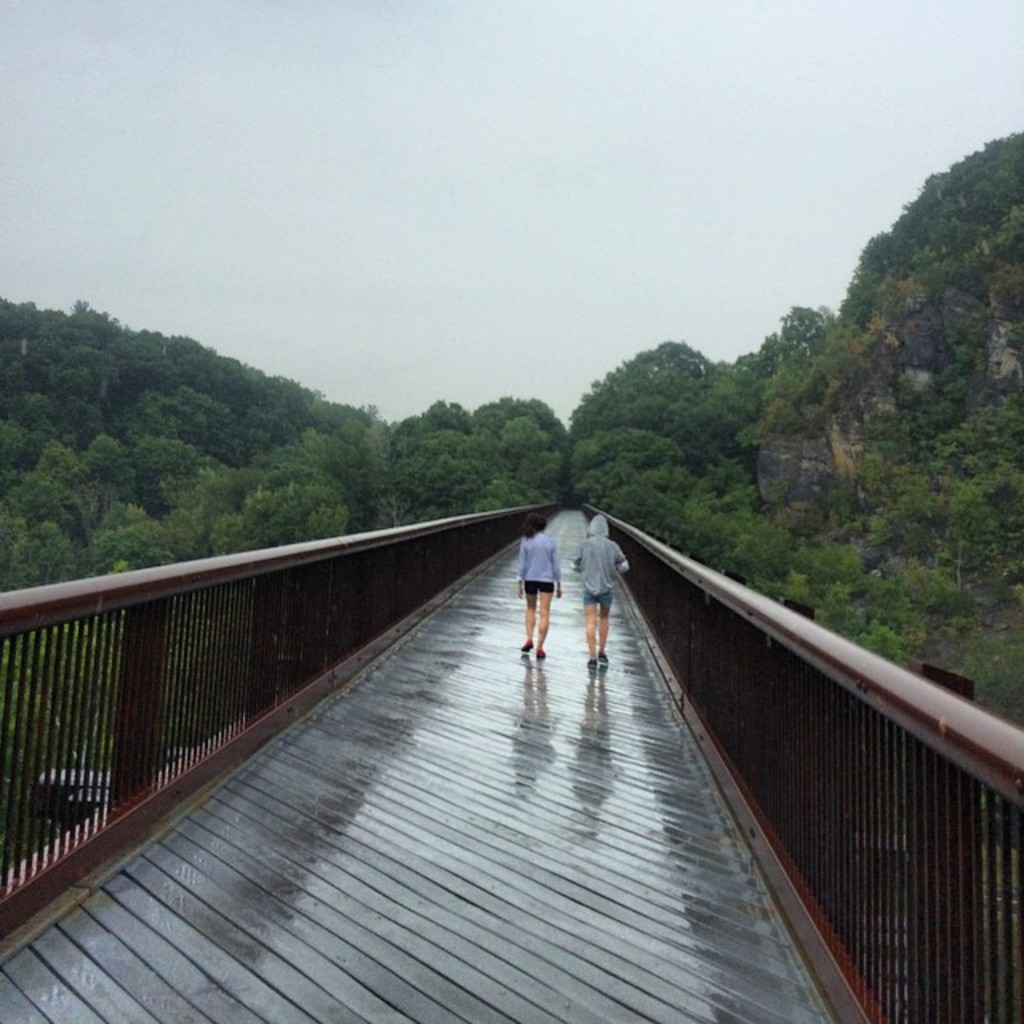Person: (570, 513, 628, 668), (516, 510, 564, 657)
